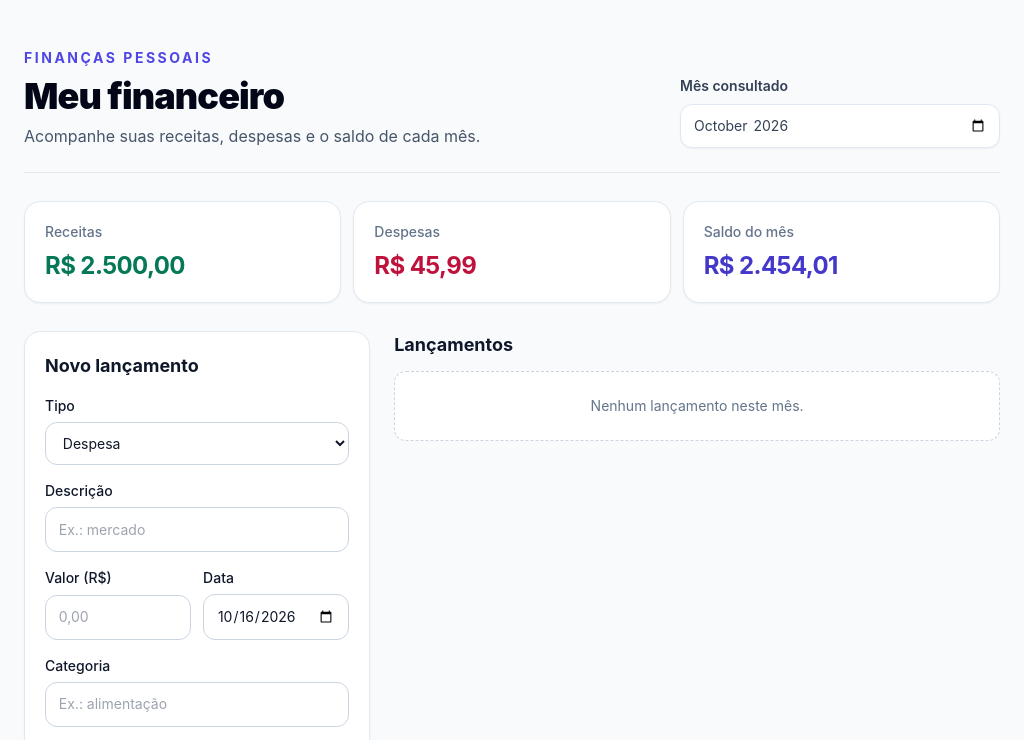
Test: gerenciador financeiro › apresenta a validação da API ao tentar salvar um valor inválido
Expected: the text "Nenhum lançamento neste mês." is shown, [394,371,1000,441]
Type "Compra" into the field labelled "Descrição" at (197, 530), box [45,507,349,552]
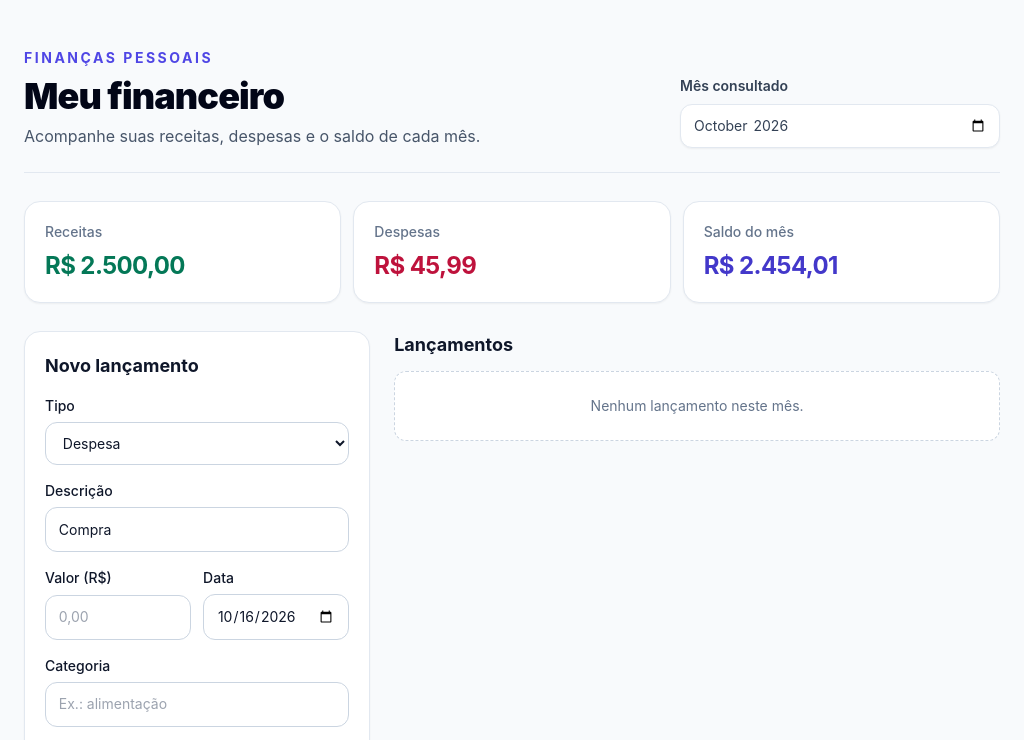
Type "0" into the field labelled "Valor (R$)" at (118, 618), box [45,595,191,640]
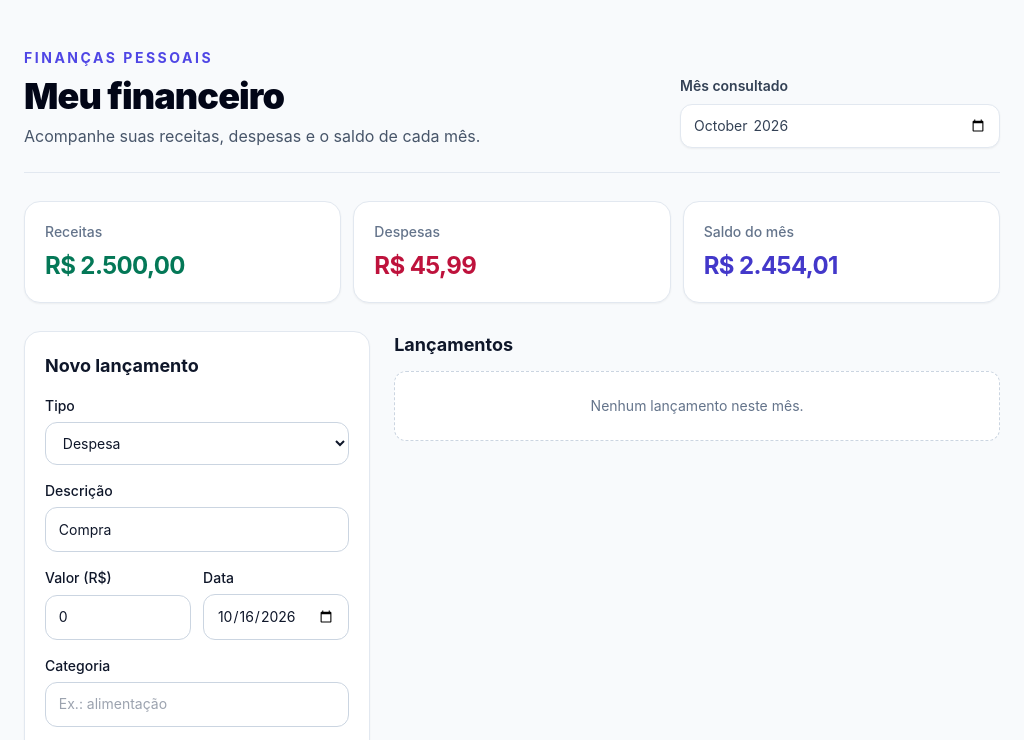
Type "Casa" into the field labelled "Categoria" at (197, 704), box [45,682,349,726]
(page scrolled)
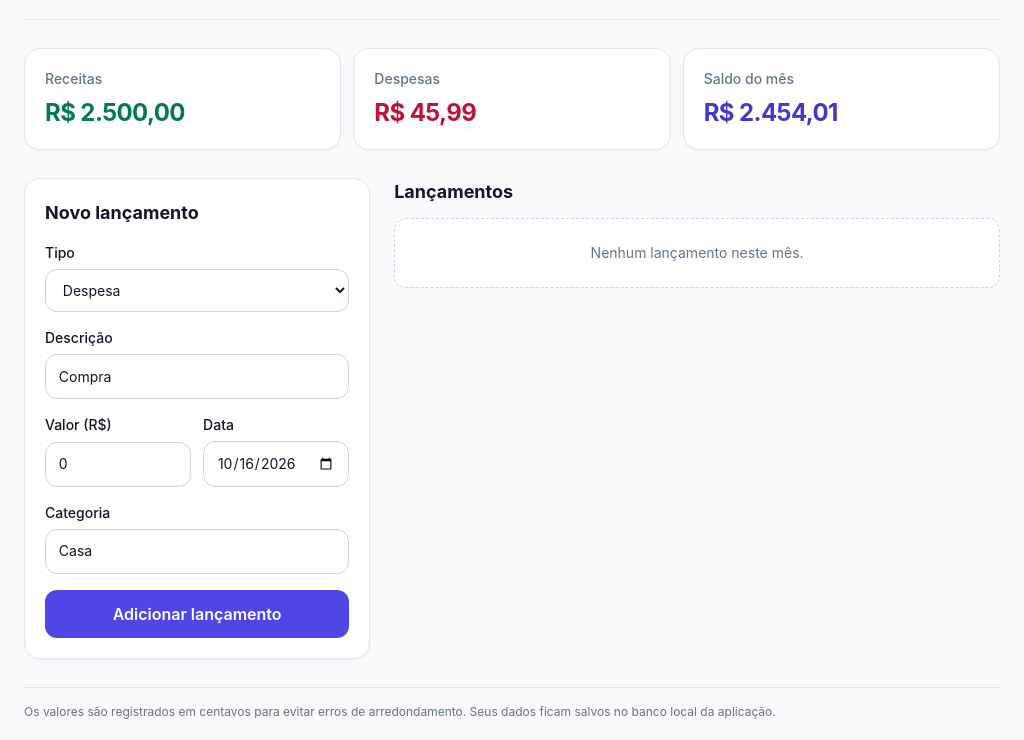
Click the button "Adicionar lançamento" at (197, 614), box [45,590,349,638]
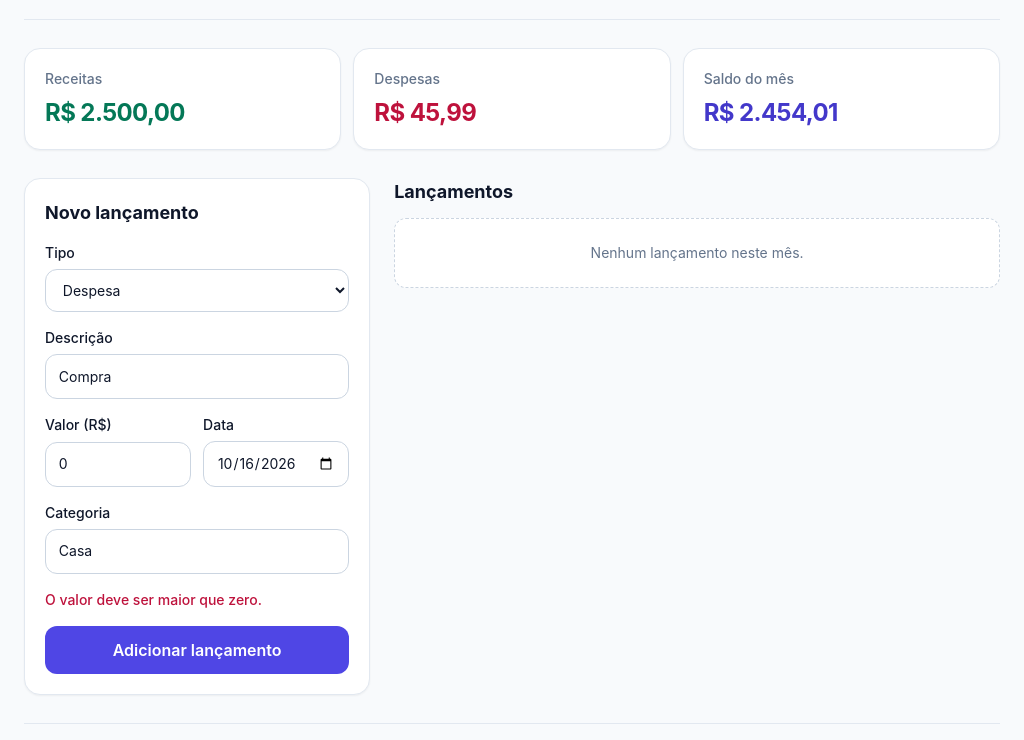
Now the message reads "O valor deve ser maior que zero.", box [45,590,262,608]
